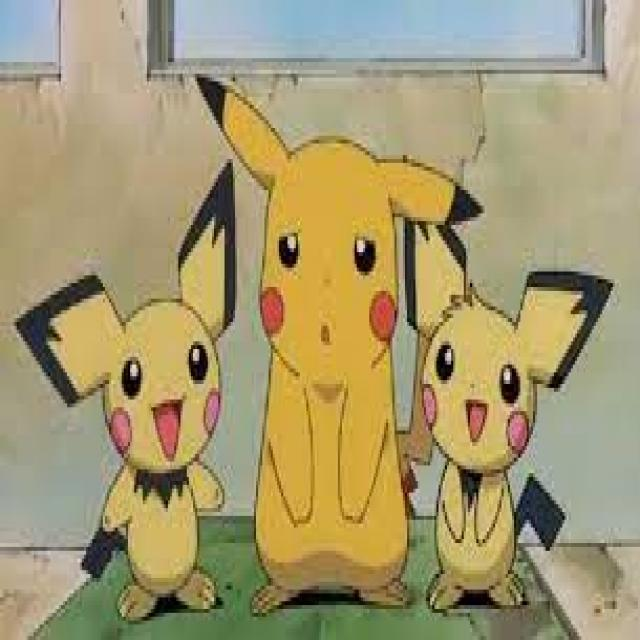pichu: (12, 153, 246, 628)
